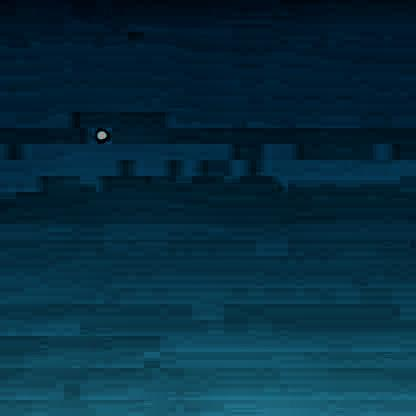golfball: (92, 125, 106, 139)
